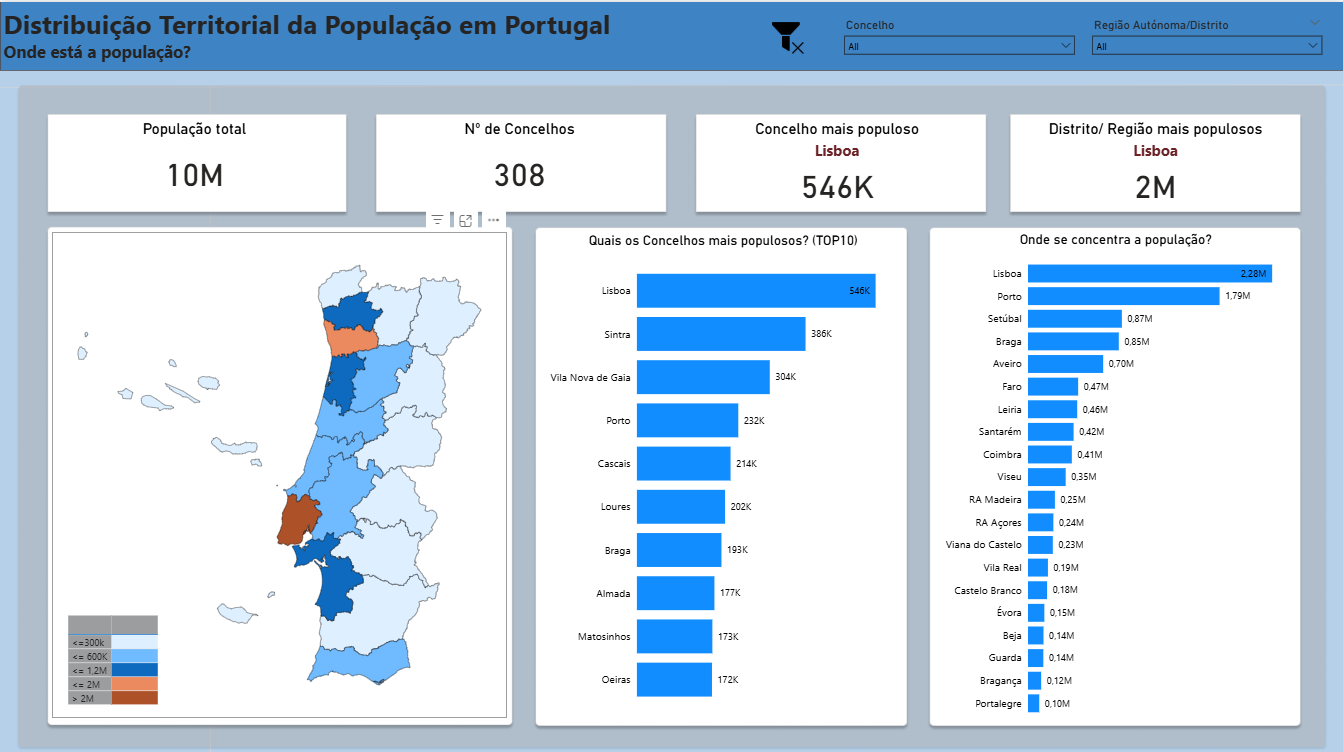

The dashboard page shown, as its layout file describes it:
{"tool":"powerbi","page":{"name":"Distribuição Territorial","canvas":[1920,1080],"ordinal":0},"visuals":[{"type":"textbox","box":[0,0,890,93.8],"z":0},{"type":"card","title":"População total","fields":{"Values":["Measures (2).Pop_Total"]},"box":[102.9,168.6,350,122.9],"z":1000},{"type":"card","title":"Nº de Concelhos","fields":{"Values":["Measures (2).N_Concelhos"]},"box":[567.1,168.6,350,122.9],"z":2000},{"type":"card","title":"Concelho mais populoso","fields":{"Values":["Measures (2).Pop_Concelho_Mais_Populoso"]},"box":[1002.9,168.6,385.7,122.9],"z":3000},{"type":"card","title":"Distrito/ Região mais populosos","fields":{"Values":["Measures (2).Pop_Territorio_Mais_Populoso"]},"box":[1451.4,168.6,398.6,122.9],"z":4000},{"type":"shapeMap","title":"Distribui","fields":{"Category":["dim_geografia.Região_Mapa"]},"box":[74.3,328.6,650,694.3],"z":5000},{"type":"clusteredBarChart","title":"Quais os Concelhos mais populosos?  (TOP10)","fields":{"Category":["dim_geografia.Concelho"],"Y":["Measures (2).Pop_Total_"]},"box":[772.9,328.6,520,694.3],"z":6000},{"type":"clusteredBarChart","title":"Onde se concentra a população?","fields":{"Y":["Measures (2).Pop_Total"],"Category":["dim_geografia.Territorio_Admin"]},"box":[1338.6,327.1,511.4,705.7],"z":7000},{"type":"slicer","fields":{"Values":["dim_geografia.Territorio_Admin"]},"box":[1550,17.1,348.6,60],"z":8000},{"type":"slicer","fields":{"Values":["dim_geografia.Concelho"]},"box":[1195.7,17.1,350,60],"z":9000},{"type":"tableEx","fields":{"Values":["Legend.Legend","Legend.Color"]},"box":[91.4,871.4,148.6,140],"z":10000},{"type":"image","box":[1102.5,26.2,45,51.2],"z":11000}]}

Visuals, with their boxes in screenshot pixels (x1, y1, x2, y2), scaled from the page's 1920x1080 canvas onto the 1343x752 screenshot:
textbox: [left=0, top=0, right=623, bottom=65]
"População total" card: [left=72, top=117, right=317, bottom=203]
"Nº de Concelhos" card: [left=397, top=117, right=641, bottom=203]
"Concelho mais populoso" card: [left=702, top=117, right=971, bottom=203]
"Distrito/ Região mais populosos" card: [left=1015, top=117, right=1294, bottom=203]
"Distribui" shapeMap: [left=52, top=229, right=507, bottom=712]
"Quais os Concelhos mais populosos?  (TOP10)" clusteredBarChart: [left=541, top=229, right=904, bottom=712]
"Onde se concentra a população?" clusteredBarChart: [left=936, top=228, right=1294, bottom=719]
slicer - dim_geografia.Territorio_Admin: [left=1084, top=12, right=1328, bottom=54]
slicer - dim_geografia.Concelho: [left=836, top=12, right=1081, bottom=54]
tableEx - Legend.Legend x Legend.Color: [left=64, top=607, right=168, bottom=704]
image: [left=771, top=18, right=803, bottom=54]
